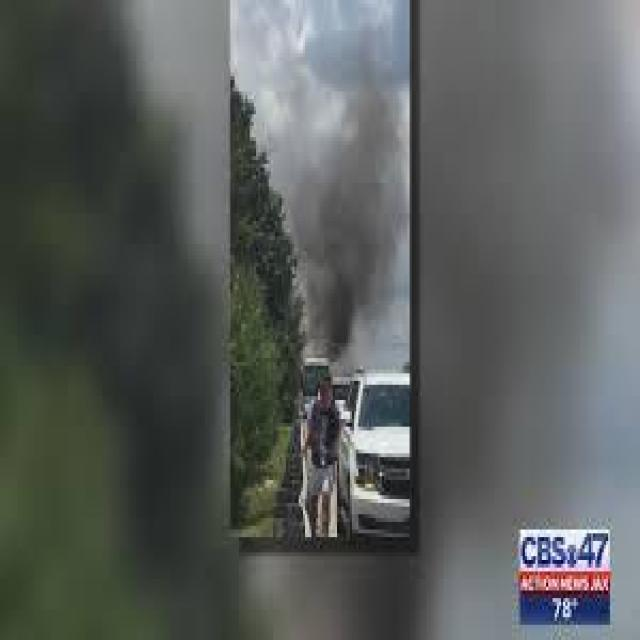Smoke: (286, 49, 406, 348)
